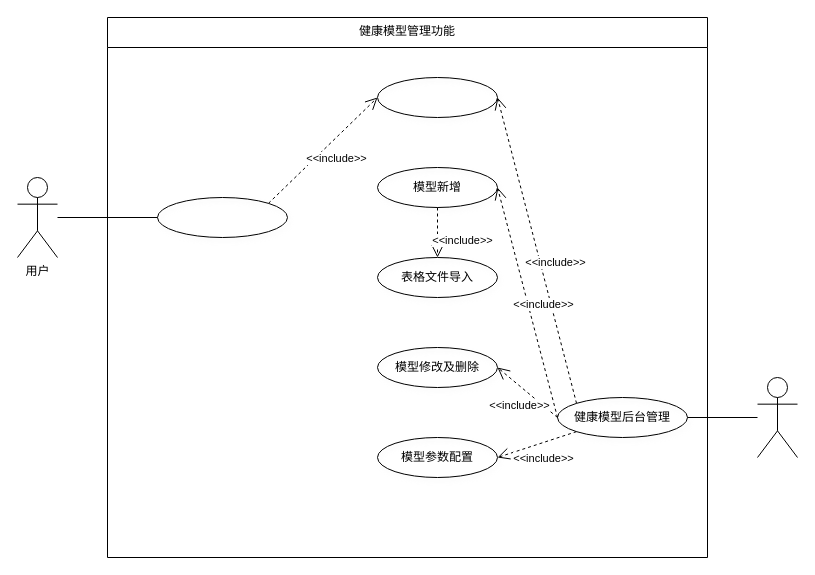
Image size: 815x575. Some labels were removed from this diagram. Here are the shapes that lost their labels. From the top down, the centre of each, then its label:
At [438,98]: "模型信息查询".
At [223,218]: "健康模型查看与应用".
At [777,417]: "管理员".
